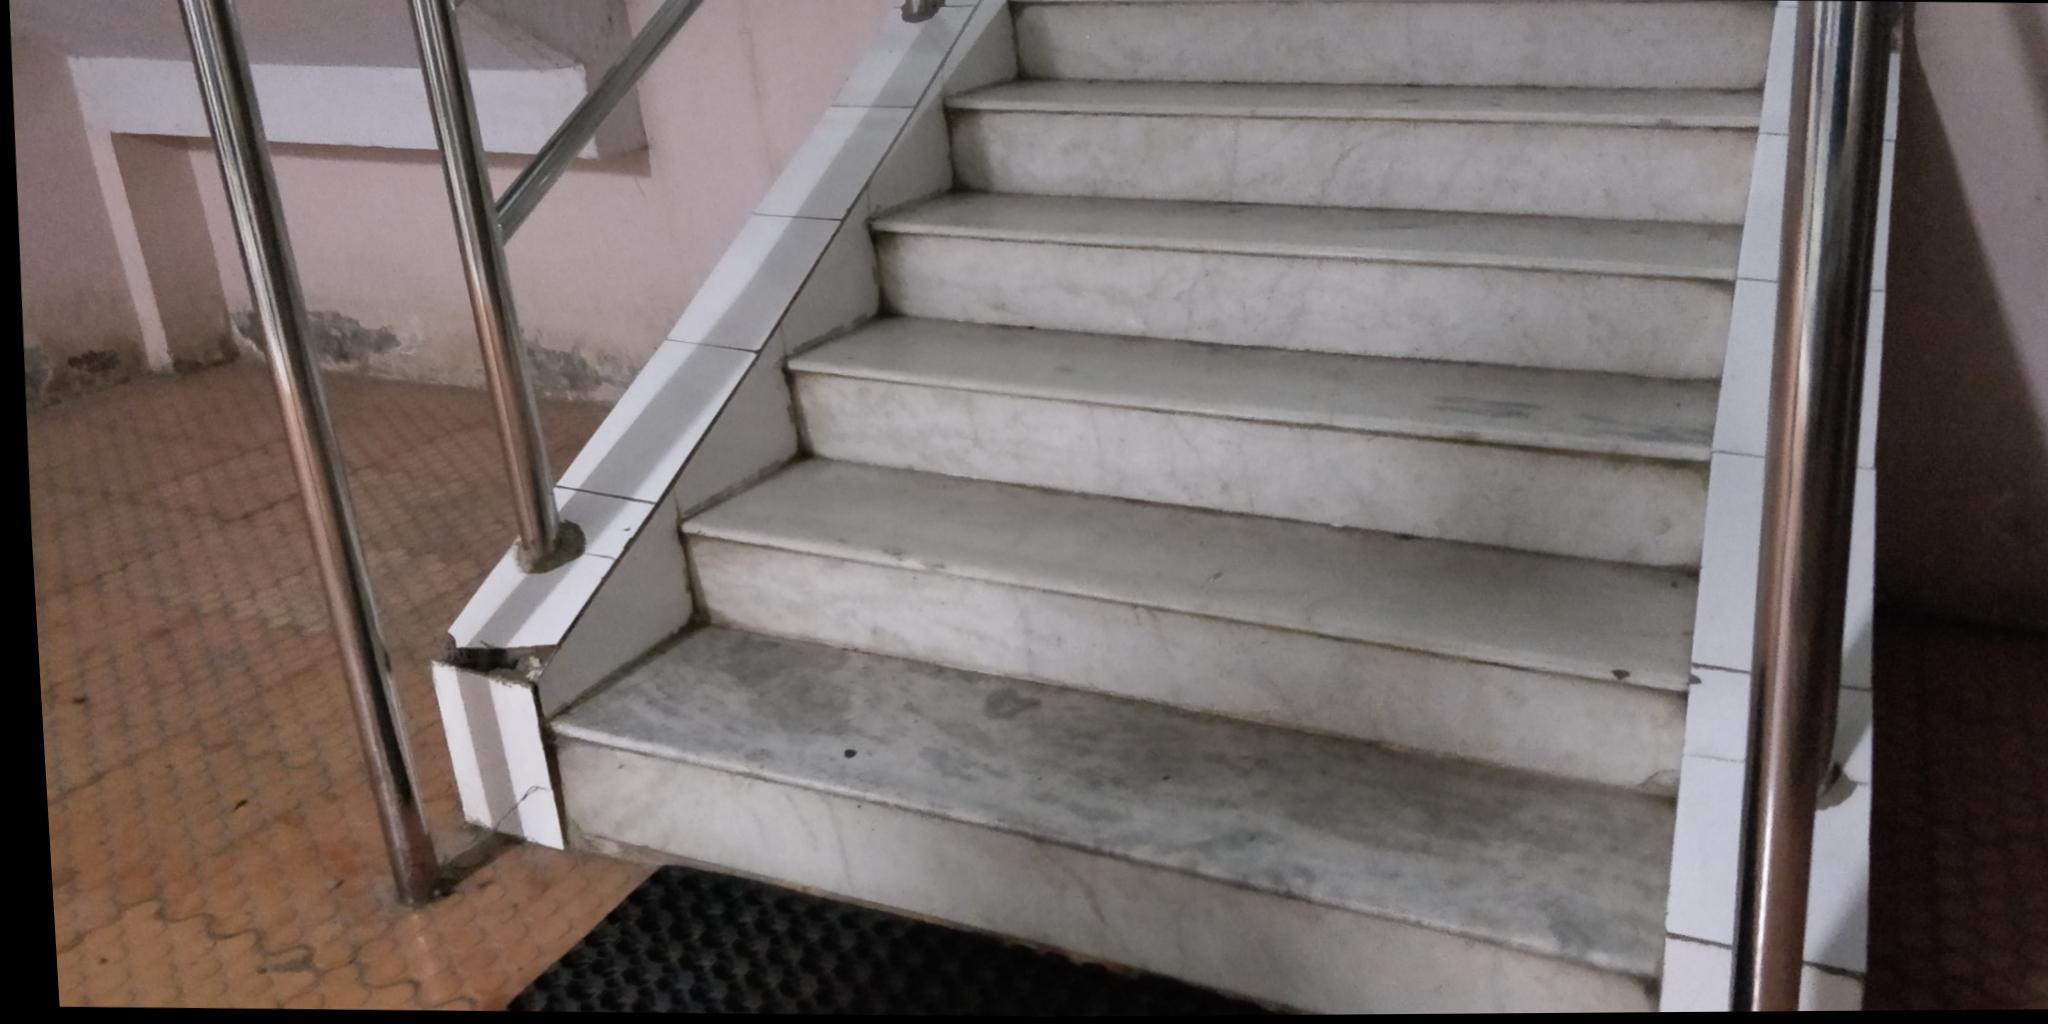Bench: (481, 0, 1848, 1021)
